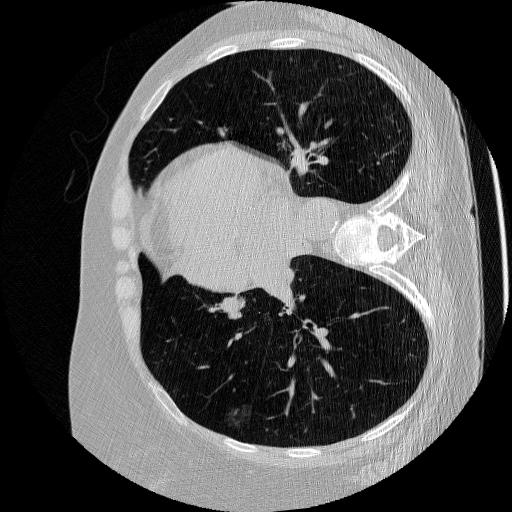nodule: (223, 403, 254, 434)
